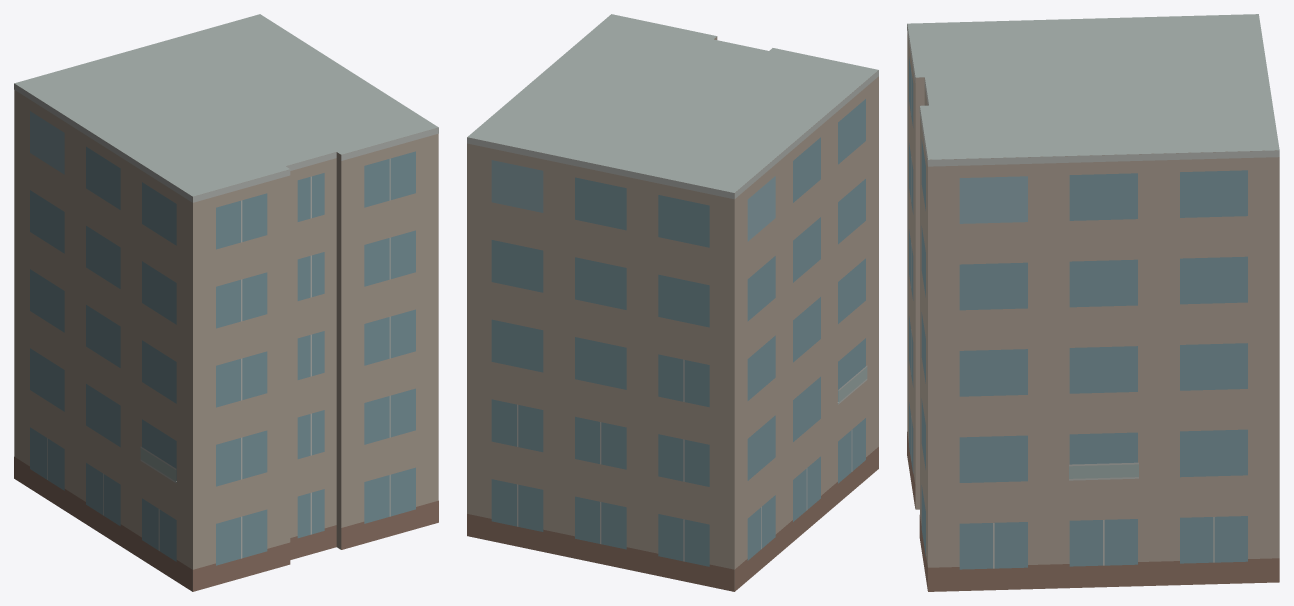
The model's file is survey-upis-32666434.glb.
The picture shows the model from 3 angles, left to right: view 1: azimuth 30°, elevation 25°; view 2: azimuth 150°, elevation 25°; view 3: azimuth 270°, elevation 25°; orthographic projection. The views are drawn at different scales.
Visible parts, largest first — view 1: survey-upis-32666434.tmp; view 2: survey-upis-32666434.tmp; view 3: survey-upis-32666434.tmp.
Boxes of the visible parts, x1,y1,x2,y2 form: survey-upis-32666434.tmp: (14,14,438,591); survey-upis-32666434.tmp: (467,14,878,591); survey-upis-32666434.tmp: (907,14,1279,591).
Size of the model in its own units: 11.23 by 15.5 by 12.12.
